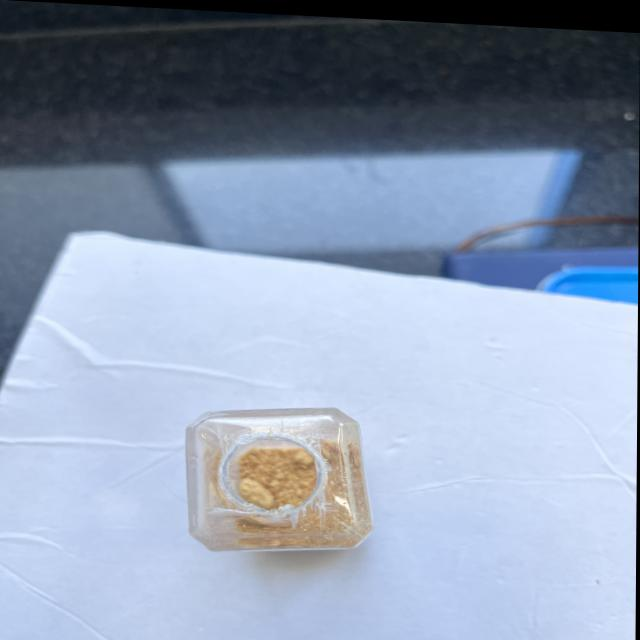garlic_powder: (204, 436, 367, 549)
